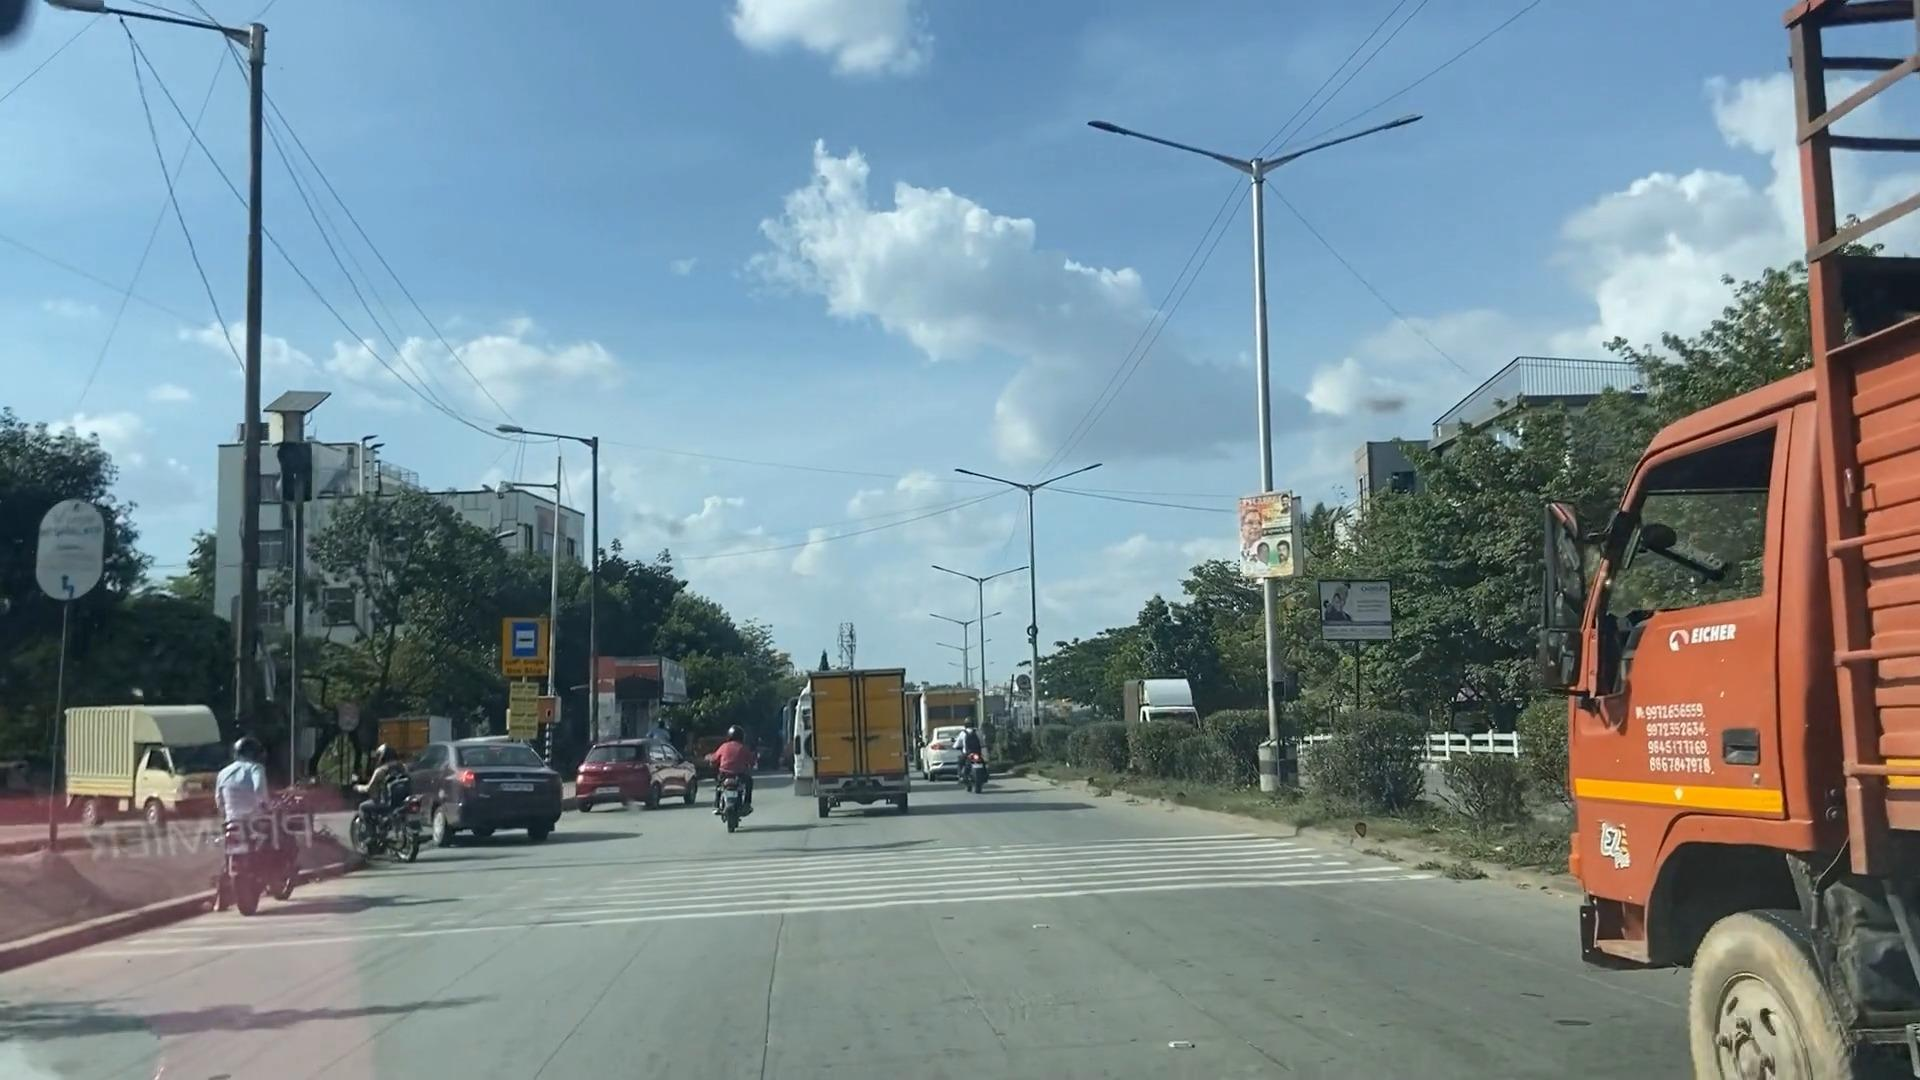HMV: (1571, 61, 1920, 1080), (774, 662, 913, 808)
LMV: (436, 723, 558, 860), (216, 723, 297, 922), (556, 720, 694, 814), (356, 732, 427, 861), (716, 727, 750, 823)
SpeedBump: (282, 848, 1407, 911)
